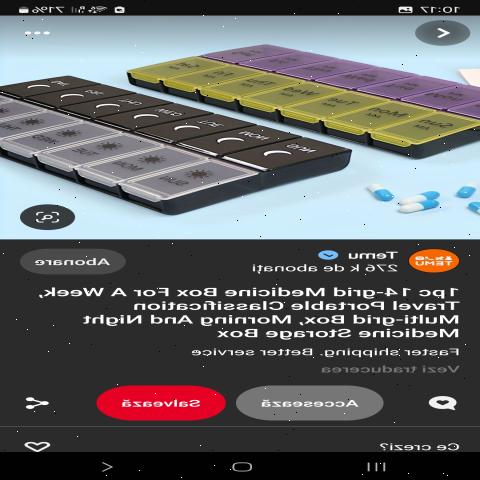PillBox: (0, 58, 366, 222)
